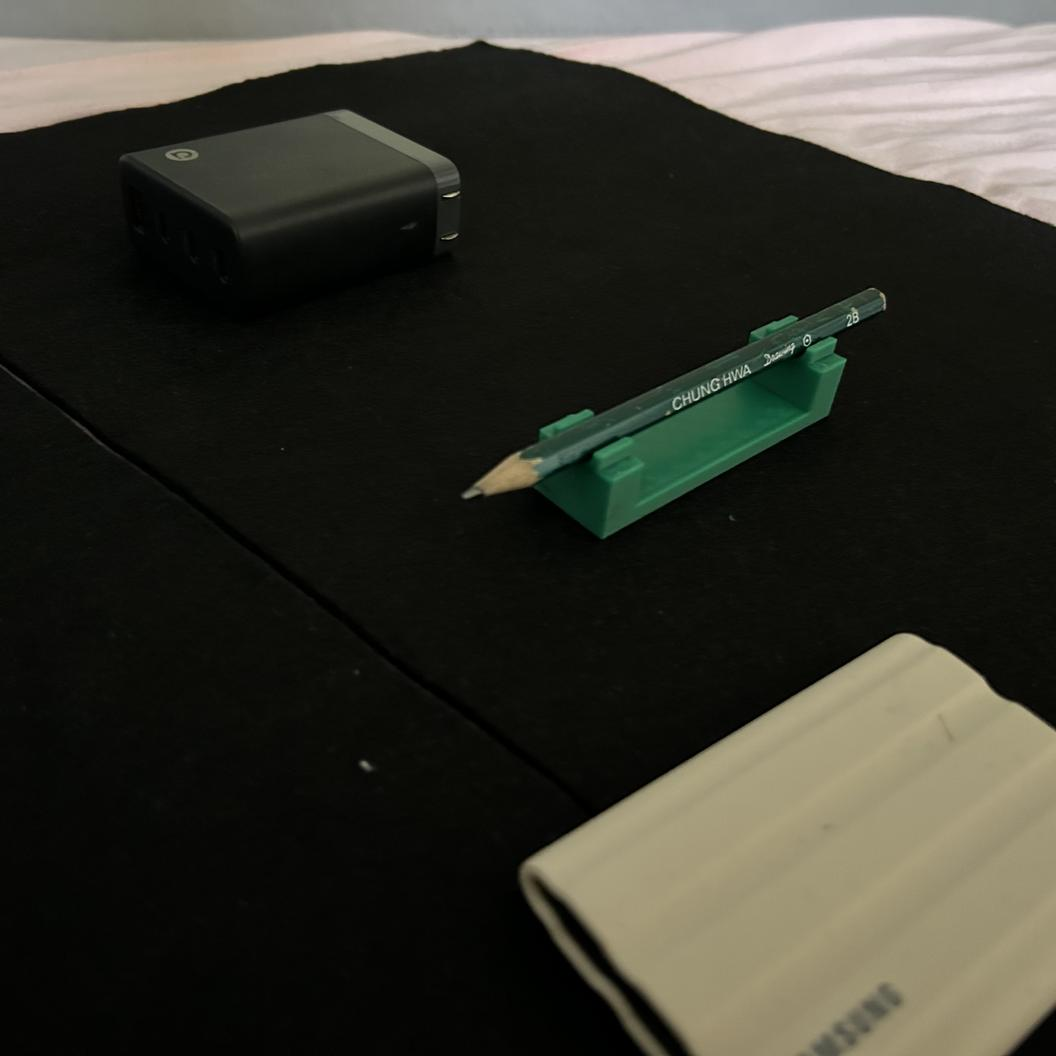X: (460, 286, 889, 539)
holder: (529, 315, 848, 540)
pencil: (460, 286, 889, 539)
